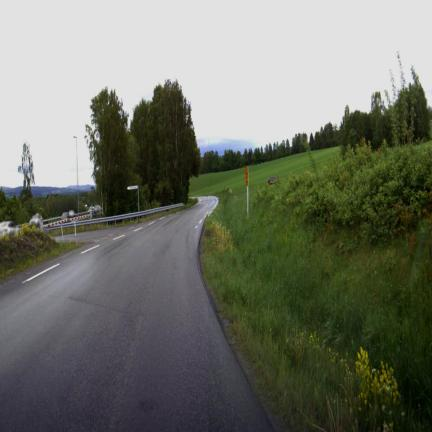Road: (0, 198, 271, 430)
